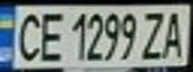1: (63, 8, 87, 62)
2: (84, 9, 106, 62)
9: (118, 8, 142, 62), (103, 9, 124, 62)
A: (157, 7, 190, 60)
C: (9, 8, 45, 63)
E: (33, 8, 66, 62)
Z: (139, 8, 169, 61)
